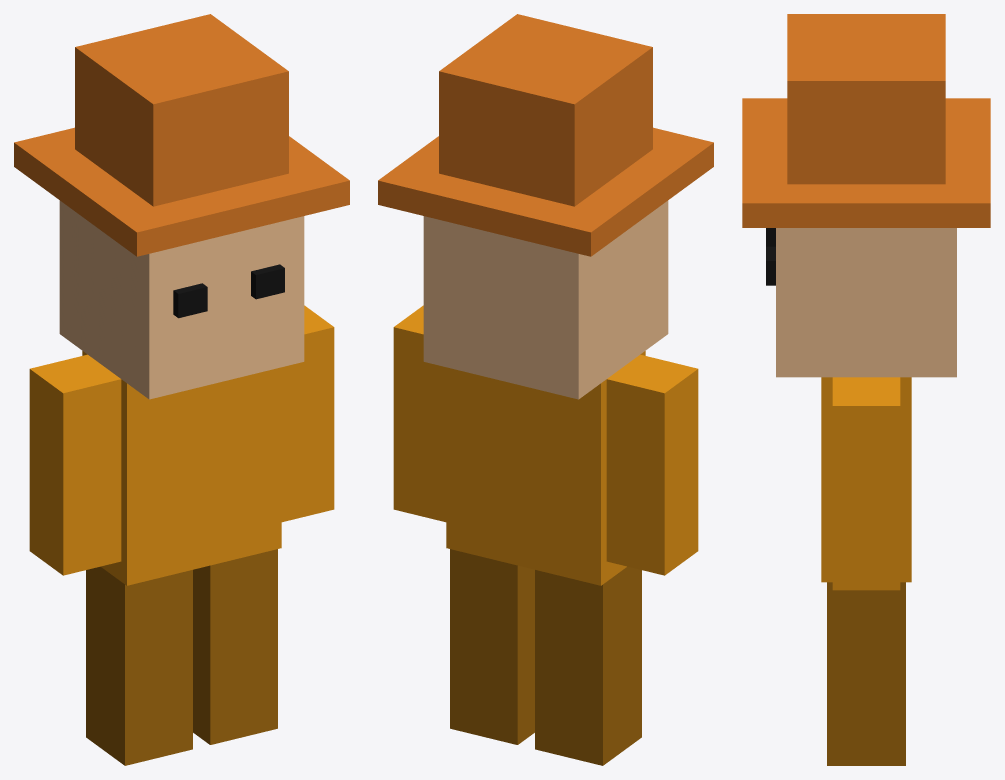
The model's file is npc_constant.obj.
3 renders of one model, left to right at view 1: azimuth 30°, elevation 25°; view 2: azimuth 150°, elevation 25°; view 3: azimuth 270°, elevation 25°, orthographic.
Bounding box in the file's own units: 1.4 × 3.32 × 1.1.
